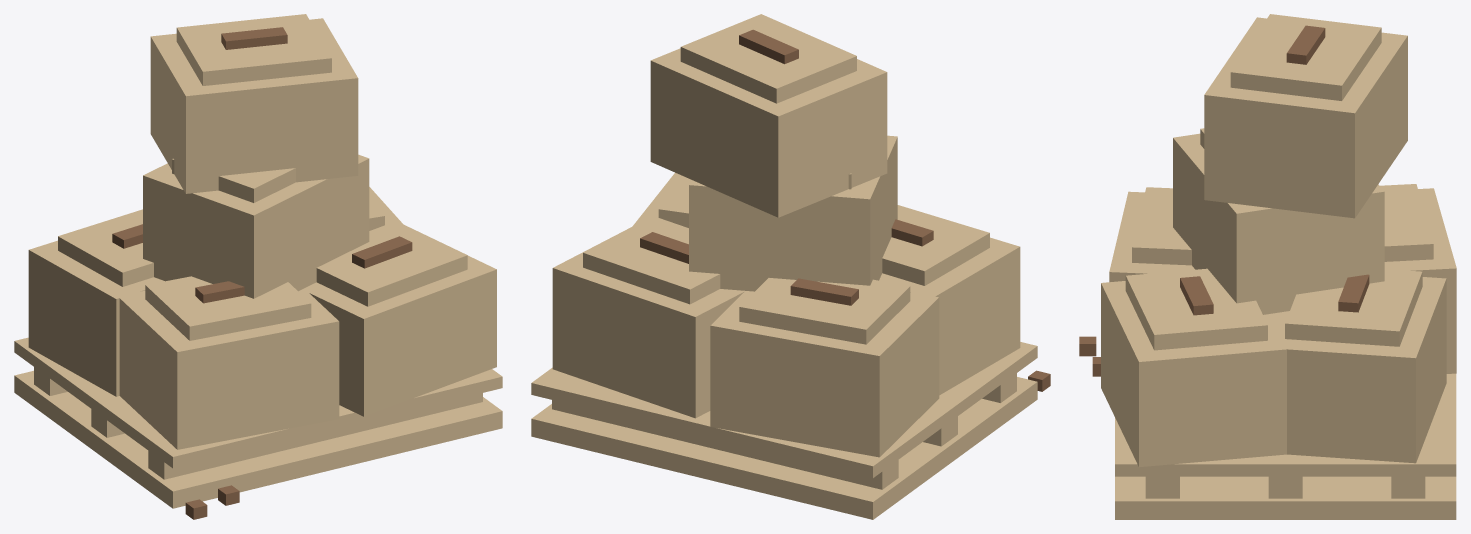
The model's file is chocolate-and-confectionery-factory-cocoa-bean-sack-st-477d6aaa__36758.glb.
The picture shows the model from 3 angles, left to right: view 1: azimuth 30°, elevation 25°; view 2: azimuth 150°, elevation 25°; view 3: azimuth 270°, elevation 25°; orthographic projection. The views are drawn at different scales.
Visible parts, largest first — view 1: cocoa-bean-sack-stack; view 2: cocoa-bean-sack-stack; view 3: cocoa-bean-sack-stack.
Boxes of the visible parts, x1,y1,x2,y2 form: cocoa-bean-sack-stack: (14,14,502,519); cocoa-bean-sack-stack: (531,14,1050,519); cocoa-bean-sack-stack: (1079,14,1456,519).
Bounding box in the file's own units: 1.22 × 1.28 × 1.11.
